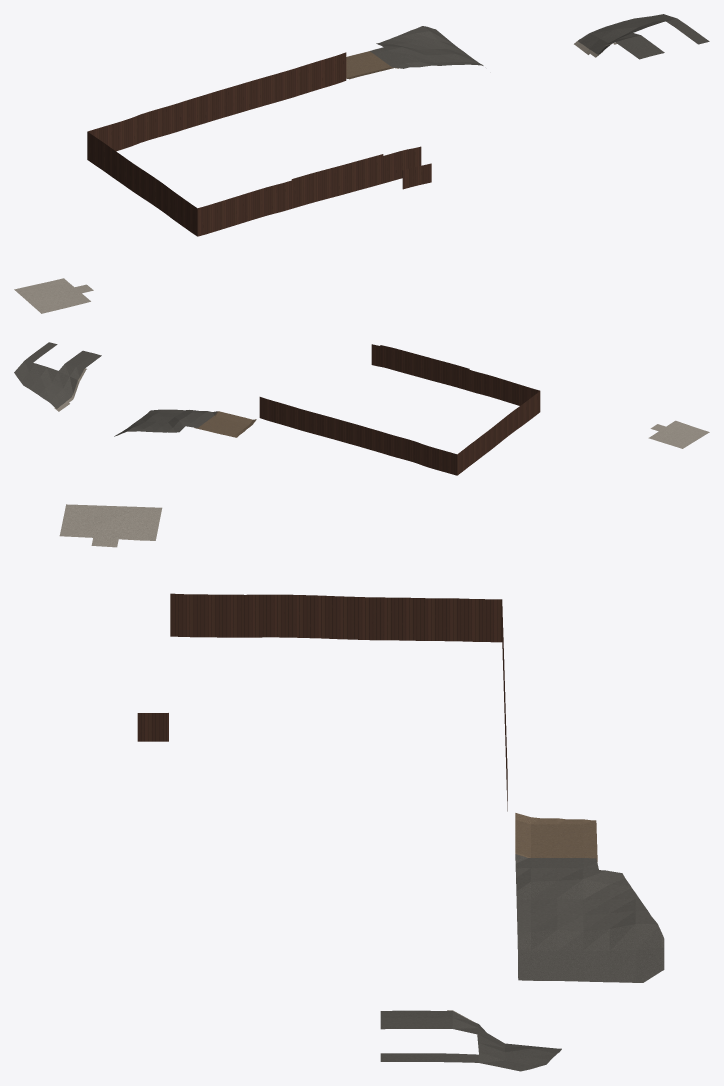
File: surfaces_2023.glb
3 renders of one model, top to bottom at view 1: azimuth 30°, elevation 25°; view 2: azimuth 150°, elevation 25°; view 3: azimuth 270°, elevation 25°, orthographic. The views are drawn at different scales.
Visible parts, largest first — view 1: site_fence, site_fence_south, rear_river_rock_deck, sides_river_rock_deck, site_garden_path, site_fence_gate, rear_soil_under_deck, site_fence_low_b; view 2: site_fence, sides_river_rock_deck, site_fence_south, rear_river_rock_deck, site_garden_path, rear_soil_under_deck, site_fence_gate; view 3: rear_river_rock_deck, site_fence, sides_river_rock_deck, site_garden_path, rear_soil_under_deck, site_fence_low_a.
Boxes of the visible parts, <box> form: site_fence: <box>87,52,346,236</box>; site_fence_south: <box>291,154,383,208</box>; rear_river_rock_deck: <box>370,26,483,68</box>; sides_river_rock_deck: <box>578,14,709,59</box>; site_garden_path: <box>14,278,93,313</box>; site_fence_gate: <box>383,146,421,183</box>; rear_soil_under_deck: <box>346,51,398,79</box>; site_fence_low_b: <box>402,163,431,189</box>; site_fence: <box>259,370,540,475</box>; sides_river_rock_deck: <box>14,342,101,408</box>; site_fence_south: <box>400,350,469,390</box>; rear_river_rock_deck: <box>114,409,217,436</box>; site_garden_path: <box>648,420,709,448</box>; rear_soil_under_deck: <box>194,411,256,437</box>; site_fence_gate: <box>371,344,400,371</box>; rear_river_rock_deck: <box>515,854,664,982</box>; site_fence: <box>170,593,507,811</box>; sides_river_rock_deck: <box>380,1010,561,1071</box>; site_garden_path: <box>59,504,162,547</box>; rear_soil_under_deck: <box>515,813,597,861</box>; site_fence_low_a: <box>137,713,168,741</box>.
Bounding box in the file's own units: 51.44 × 4.24 × 23.13.
5 materials, 5 textured.
